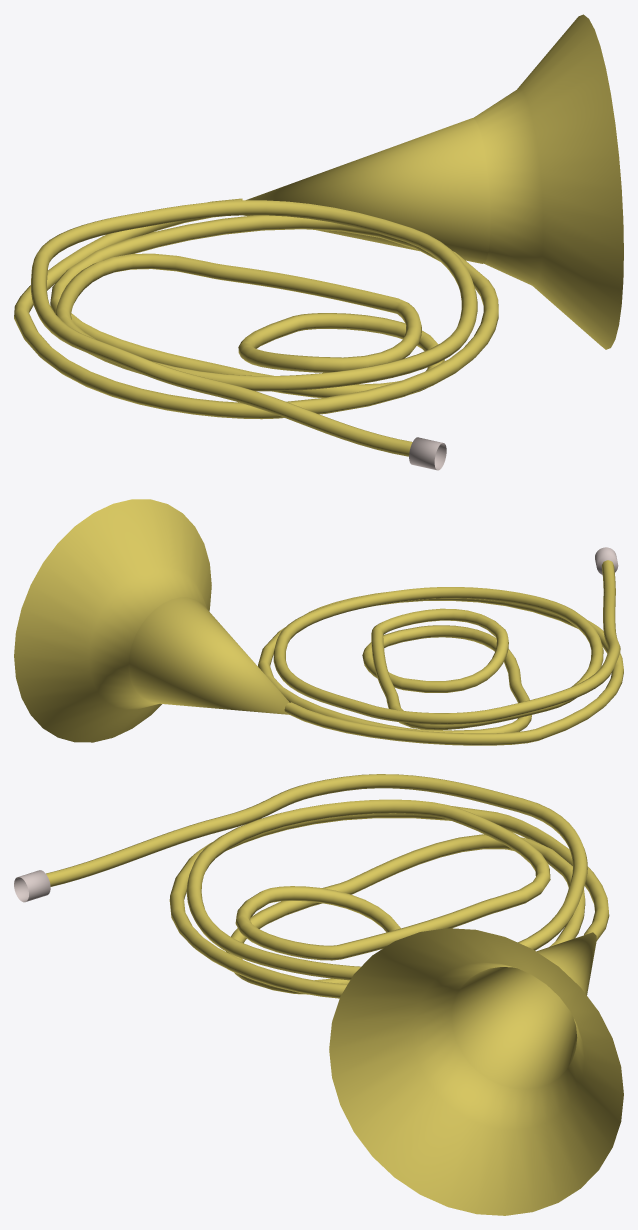
Rendered from horn-natural.fbx.
3 renders of one model, top to bottom at view 1: azimuth 30°, elevation 25°; view 2: azimuth 150°, elevation 25°; view 3: azimuth 270°, elevation 25°, orthographic. The views are drawn at different scales.
Visible parts, largest first — view 1: natural horn, bell, mouthpiece; view 2: bell, natural horn, mouthpiece; view 3: inside bell, natural horn, bell, mouthpiece.
Boxes of the visible parts, <box> form: natural horn: <box>14,198,498,456</box>; bell: <box>244,14,623,349</box>; mouthpiece: <box>409,437,446,470</box>; bell: <box>14,499,289,742</box>; natural horn: <box>258,560,623,745</box>; mouthpiece: <box>595,547,618,574</box>; inside bell: <box>330,929,622,1214</box>; natural horn: <box>46,774,609,998</box>; bell: <box>329,928,623,1215</box>; mouthpiece: <box>14,870,50,902</box>.
Bounding box in the file's own units: 1.65 × 0.7539 × 1.47.
